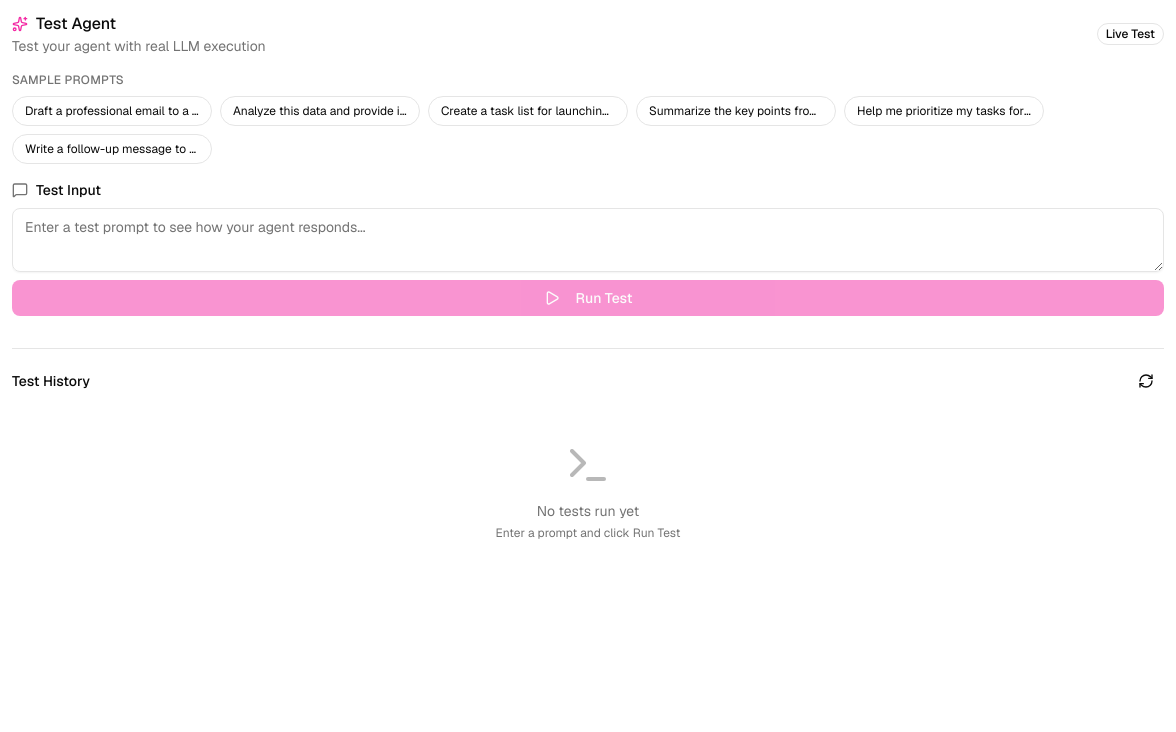
Test case: TestAgentPanel › enables run button when input has content
This screenshot has width=1176, height=732.
Type "Test input" into the text box with placeholder "Enter a test prompt to see how your agent responds...". click: (588, 240)
box: [12,208,1164,272]
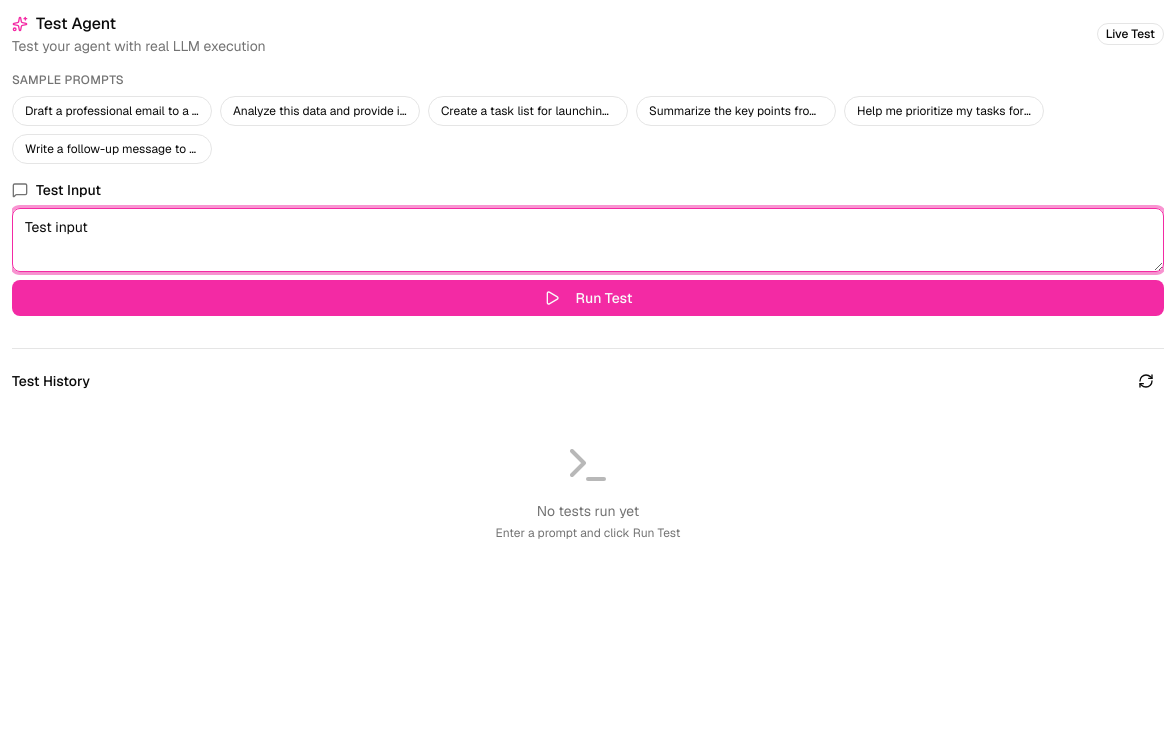
expect the button "Run Test" is enabled: met, box [12,280,1164,316]
